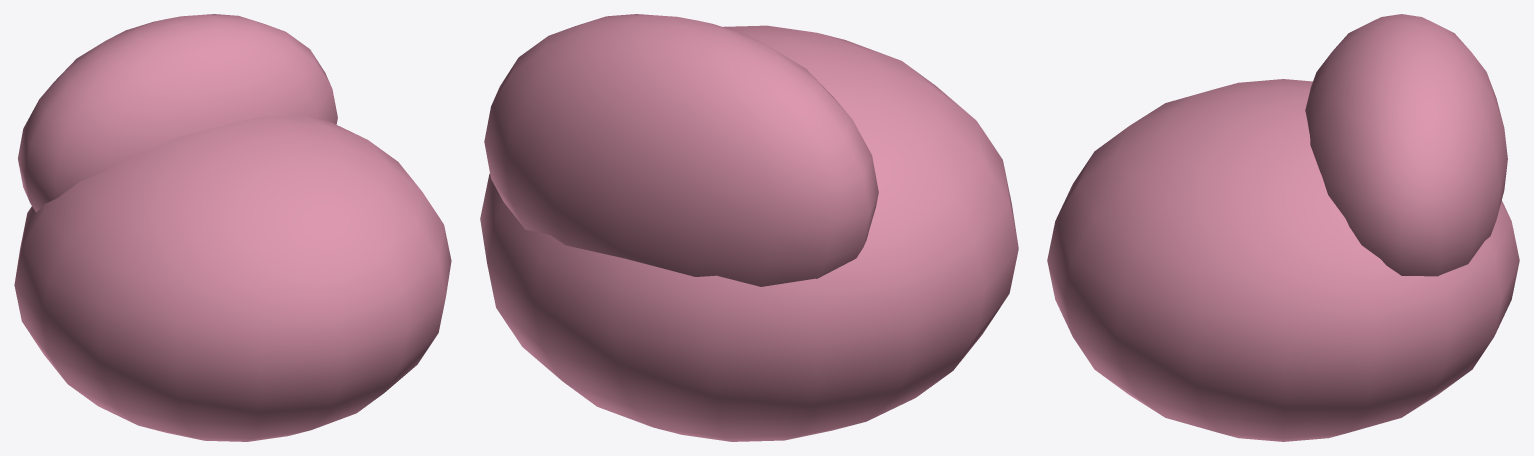
File: bean-bag.glb
The picture shows the model from 3 angles, left to right: view 1: azimuth 30°, elevation 25°; view 2: azimuth 150°, elevation 25°; view 3: azimuth 270°, elevation 25°; orthographic projection. The views are drawn at different scales.
Visible parts, largest first — view 1: bean-bag; view 2: bean-bag; view 3: bean-bag.
Boxes of the visible parts, x1,y1,x2,y2 form: bean-bag: [14, 14, 451, 441]; bean-bag: [480, 14, 1018, 441]; bean-bag: [1047, 14, 1519, 441].
Bounding box in the file's own units: 80 × 70 × 80.
